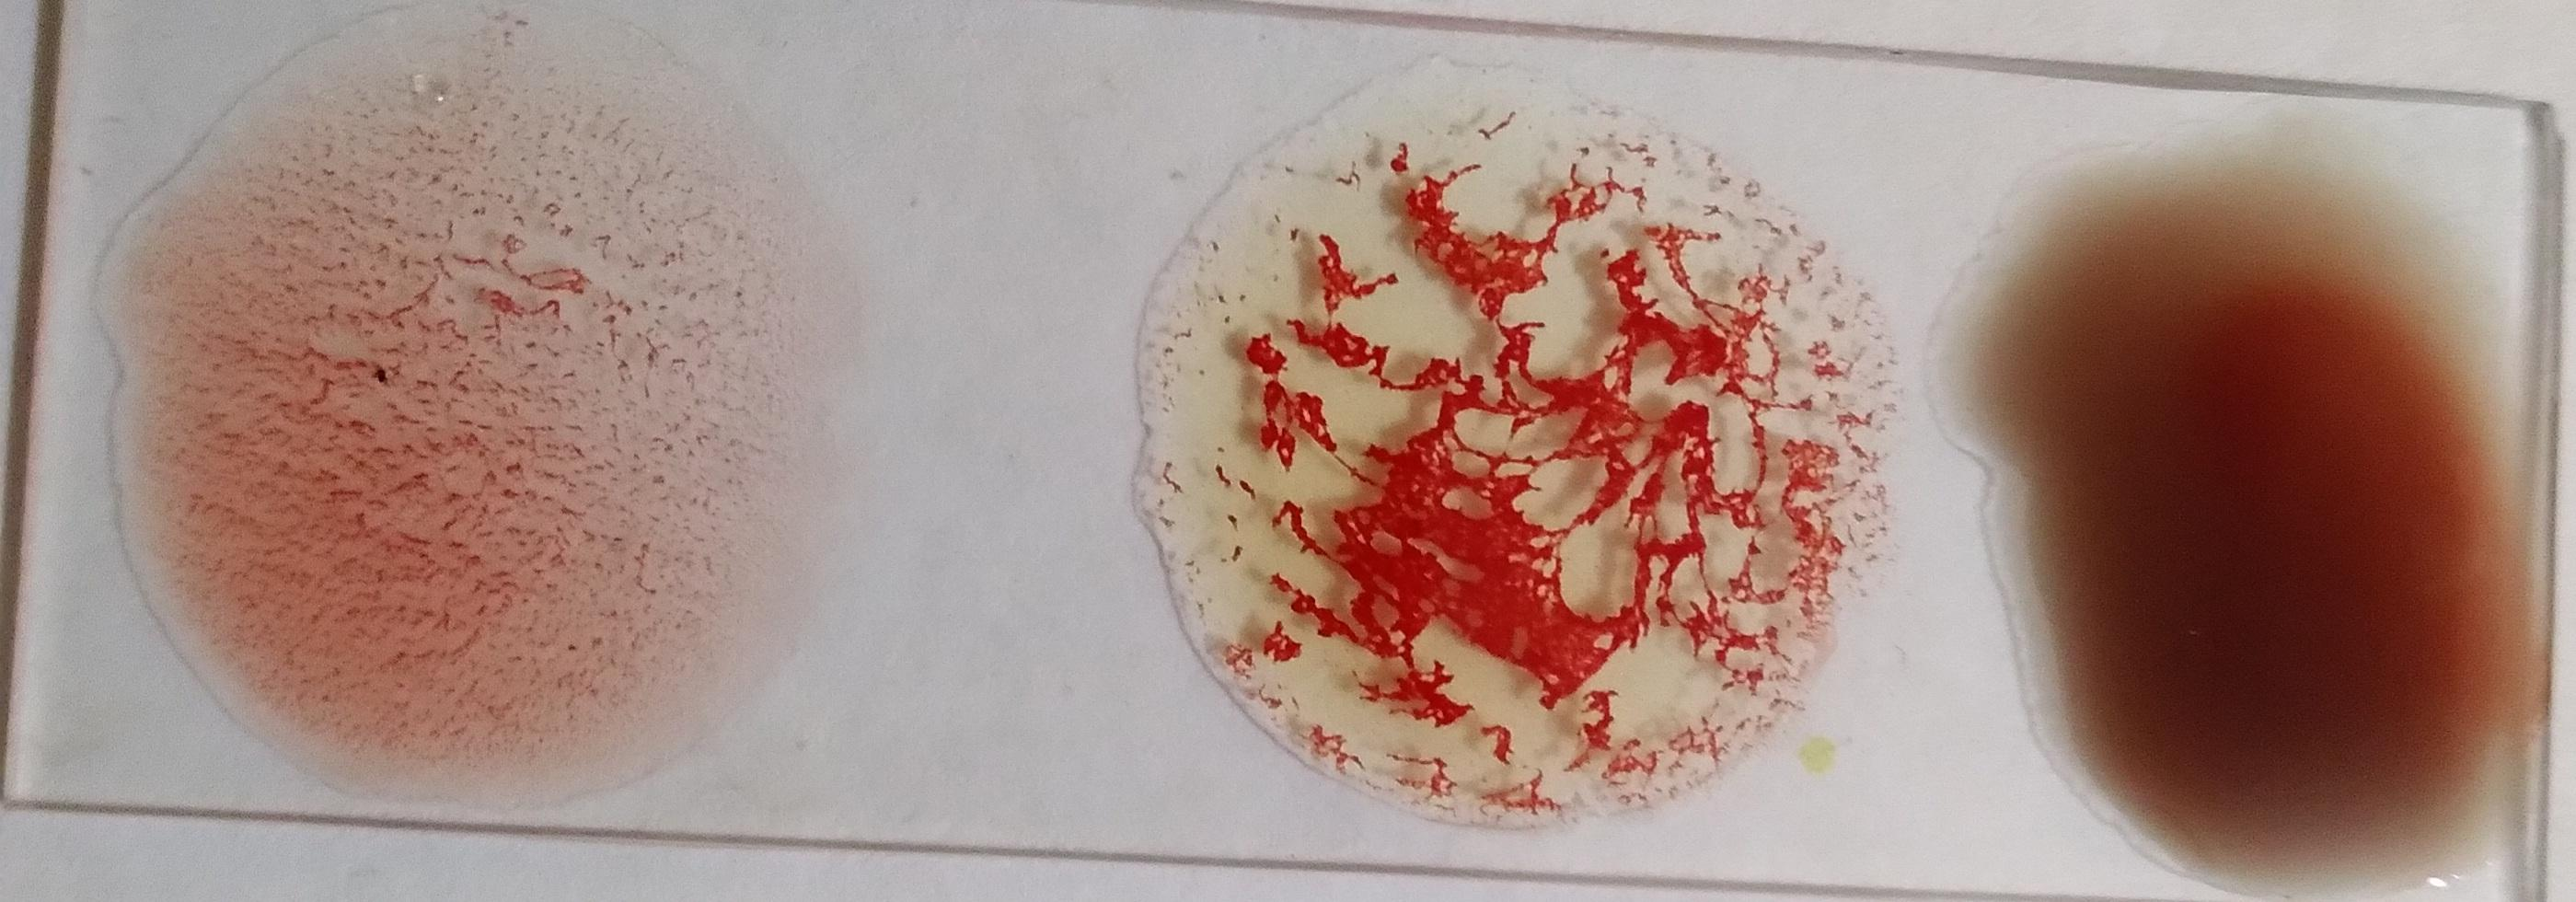B: (1150, 53, 1871, 823)
D: (159, 58, 803, 771)
